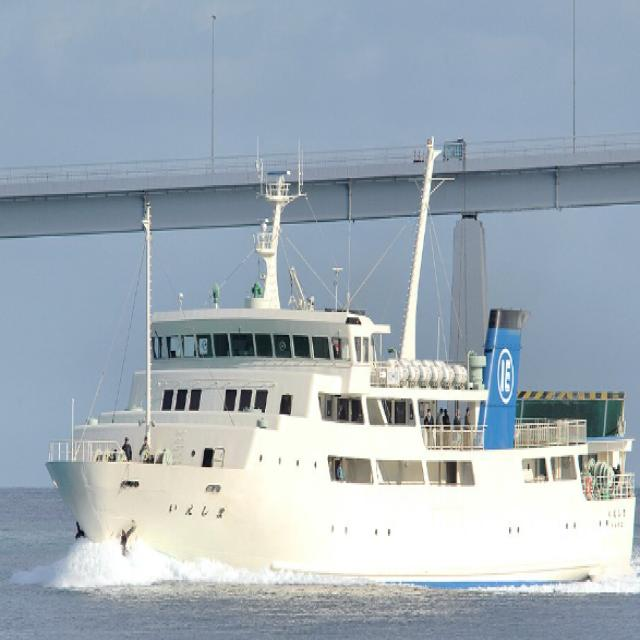passenger ship: (51, 164, 638, 575)
